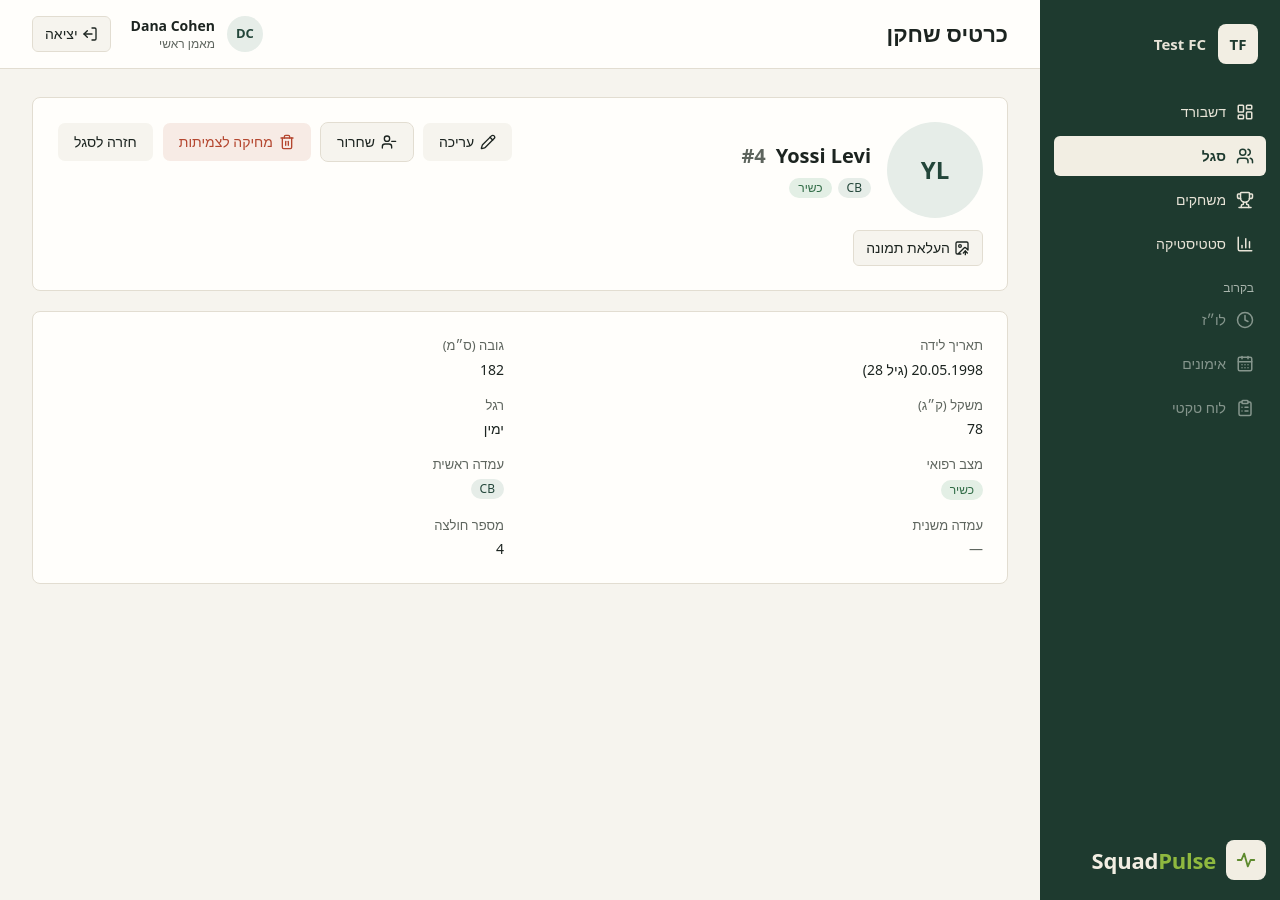
it: the card's release › shows a failure in the dialog and stays open (0)
Check: the heading "Yossi Levi" is shown, box [776,142,871,170]
Click the button "שחרור": (367, 142) [320,122,414,162]
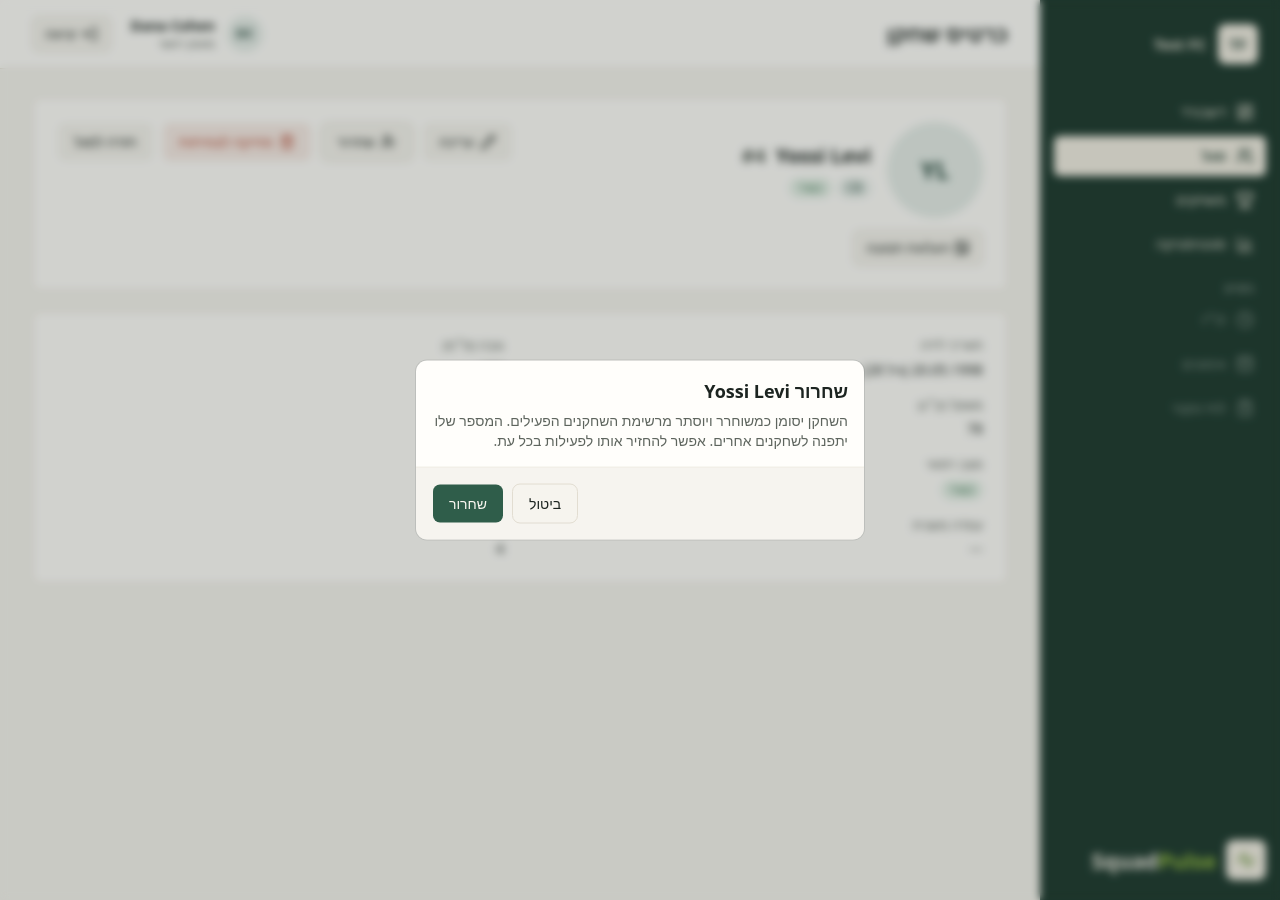
Click the button "שחרור": (468, 504) [432,484,504,524]
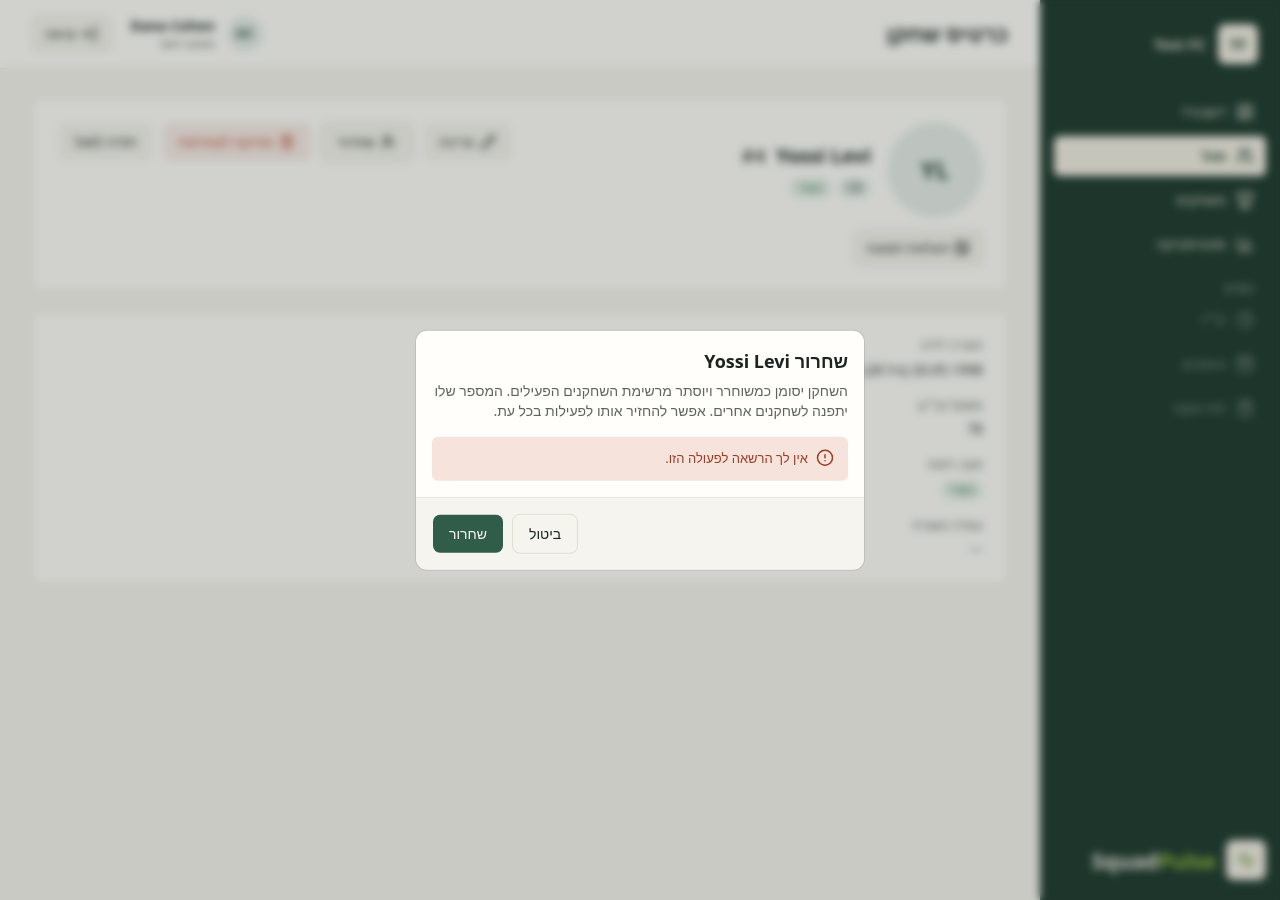
Check: the button "שחרור" is enabled, box [432,513,504,553]
Check: the message reads "אין לך הרשאה לפעולה הזו.", box [665,449,808,467]
